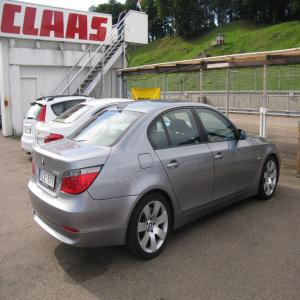Vehicle-registration-plate: (39, 169, 56, 189)
